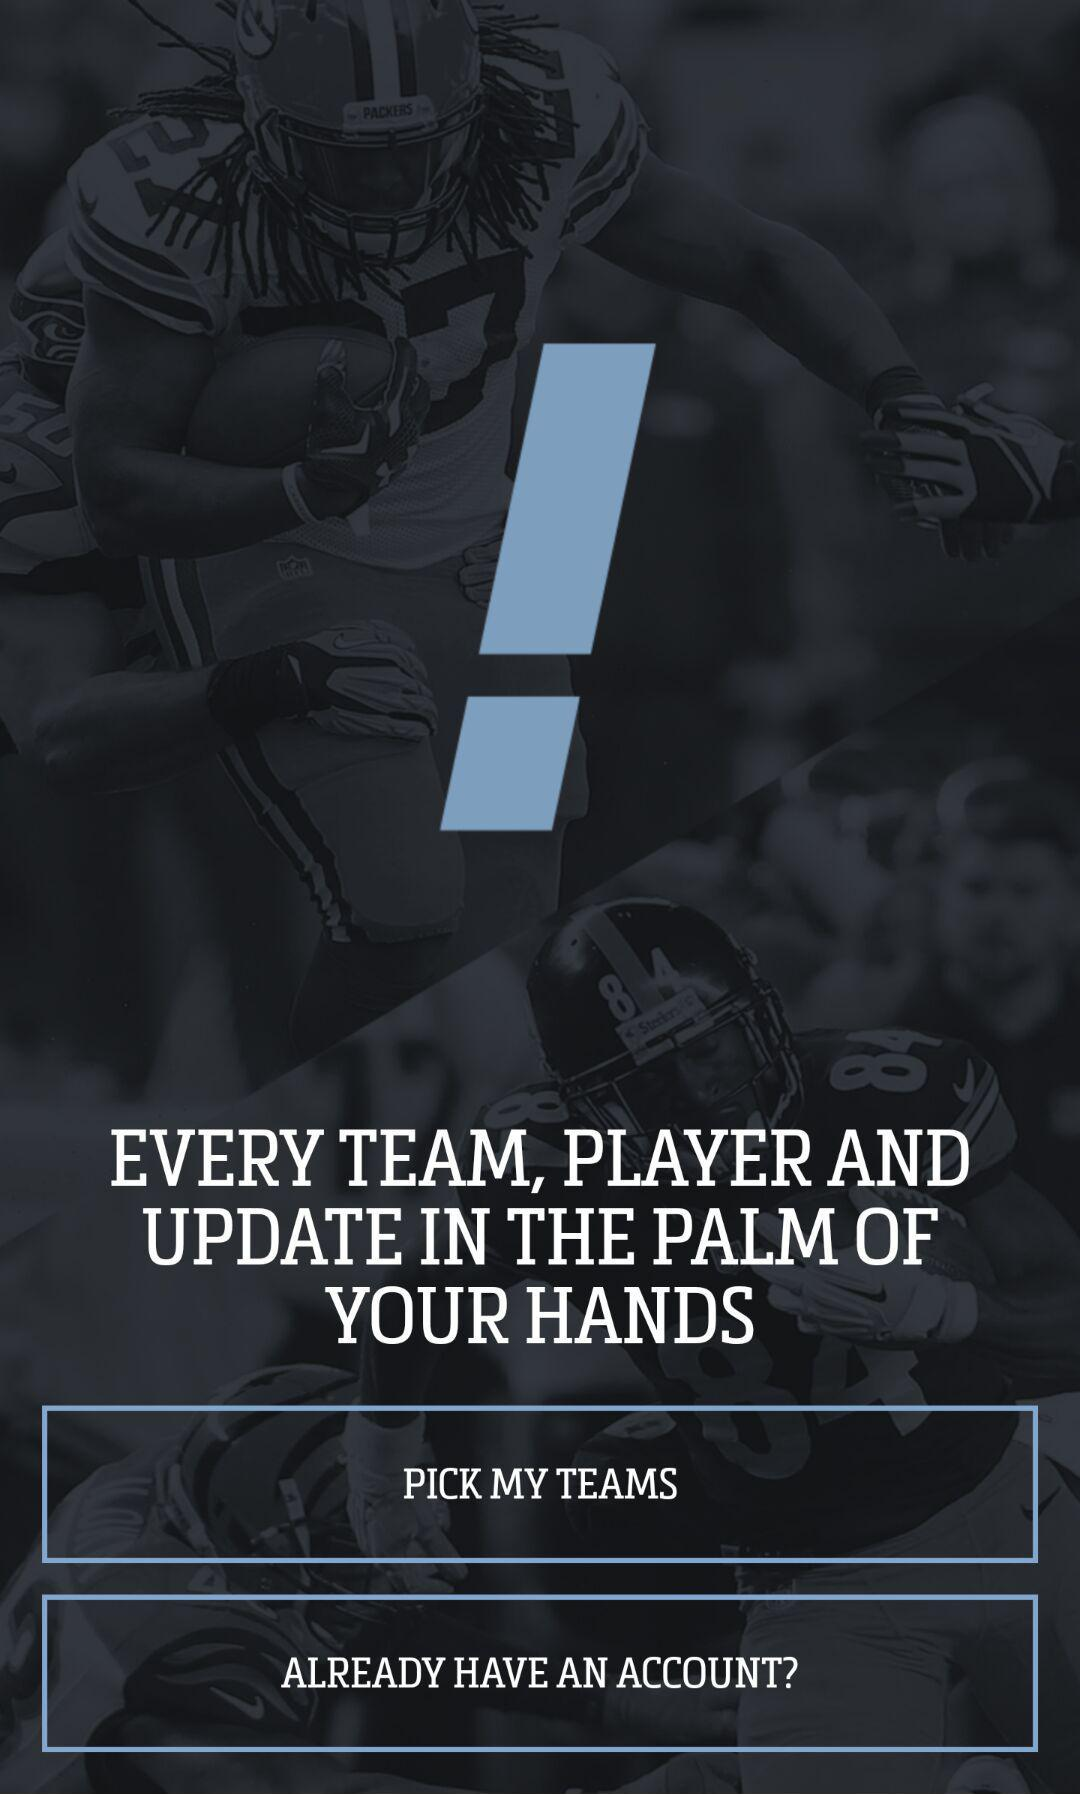BackgroundImage: (1, 1, 1080, 1794)
Text: (110, 1128, 970, 1345)
TextButton: (42, 1593, 1039, 1753), (42, 1404, 1039, 1565)
